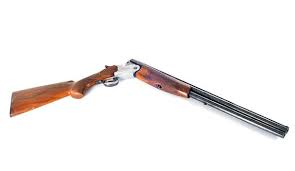weapon: (8, 60, 291, 139)
